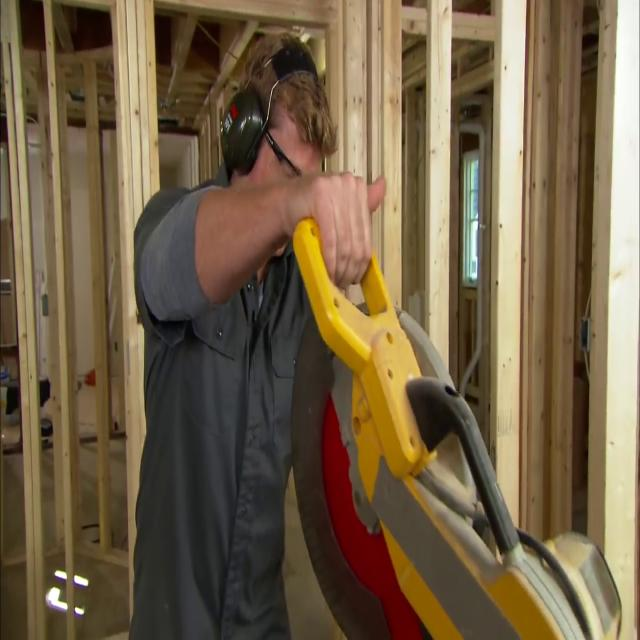earmuff: (216, 79, 264, 175)
